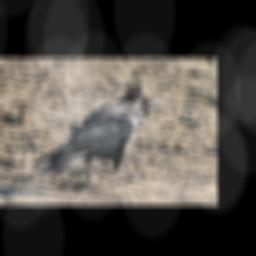Crow: (30, 88, 166, 188)
